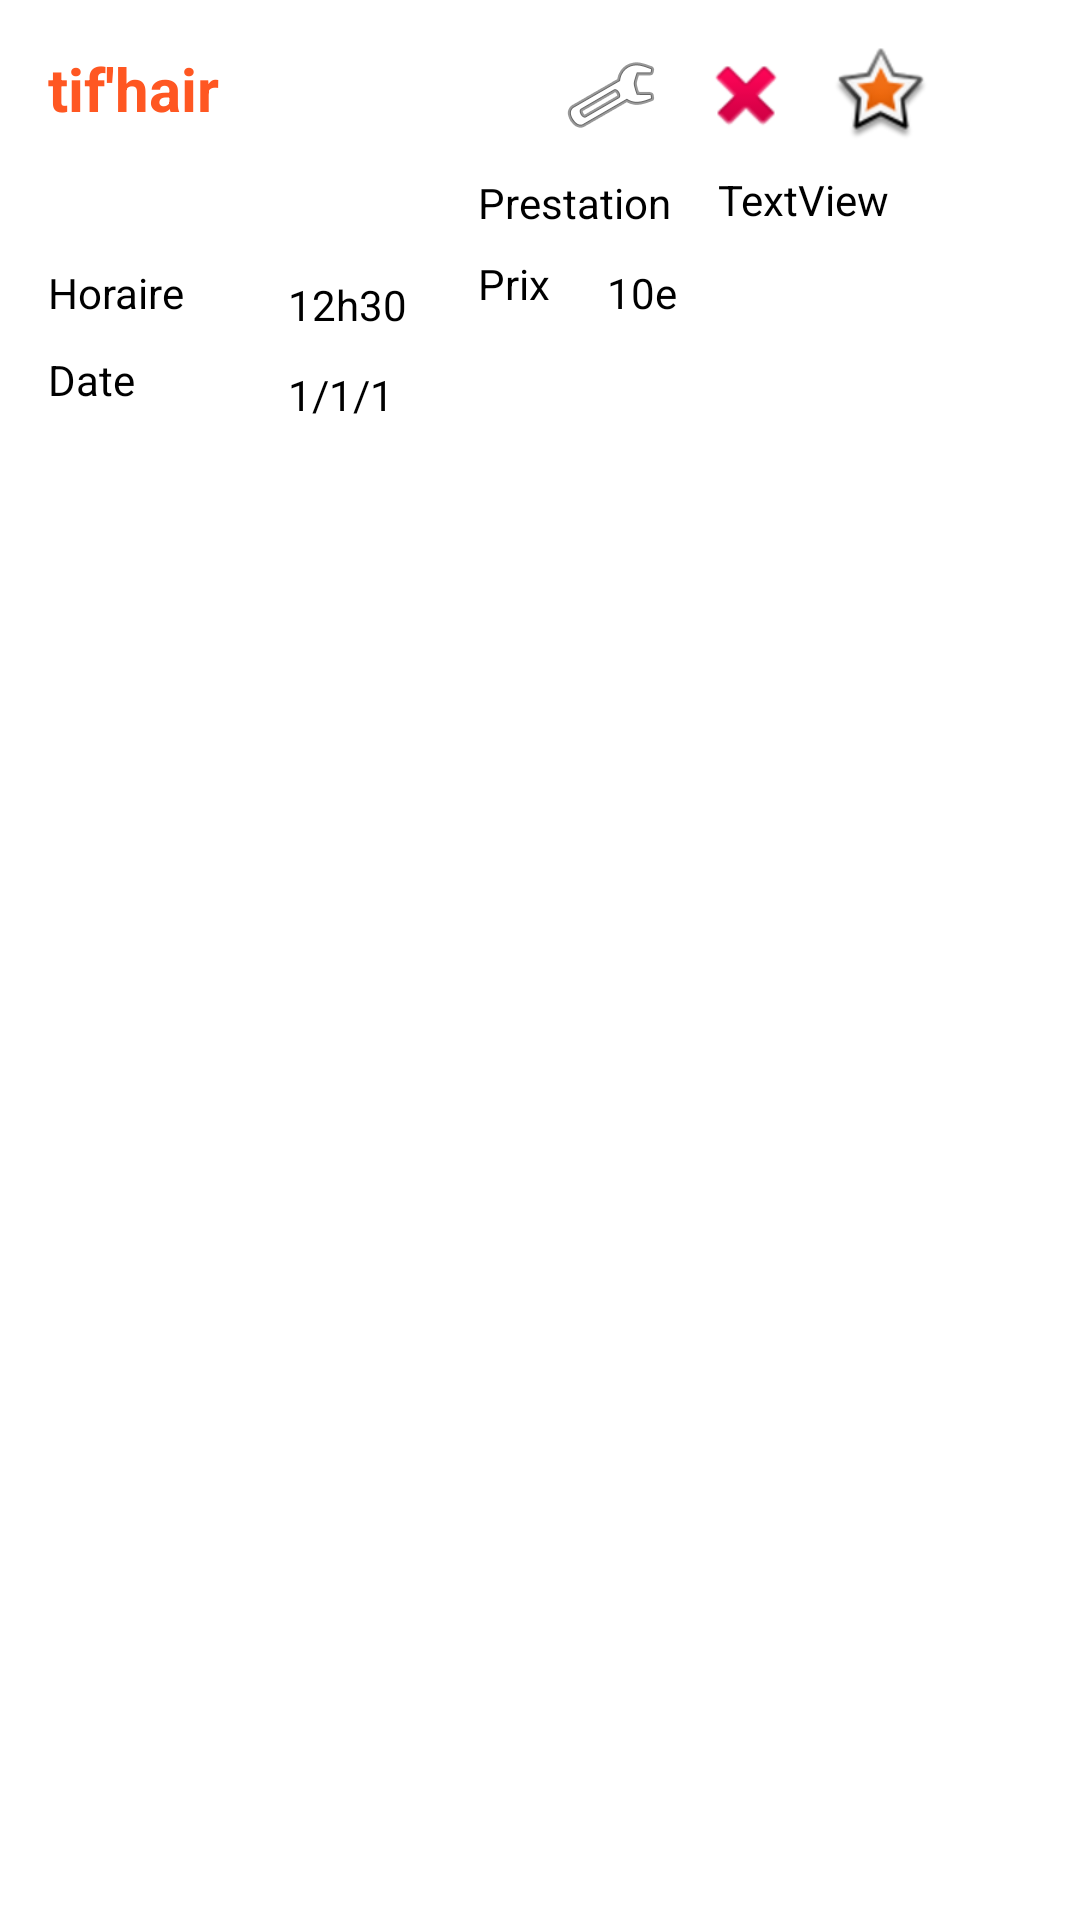

Icons on this 1080x1920 Android screen, each with its box as (x1, y1, x2, y2):
delete: (715, 66, 777, 125)
manage: (568, 62, 654, 128)
star on: (838, 48, 924, 135)
